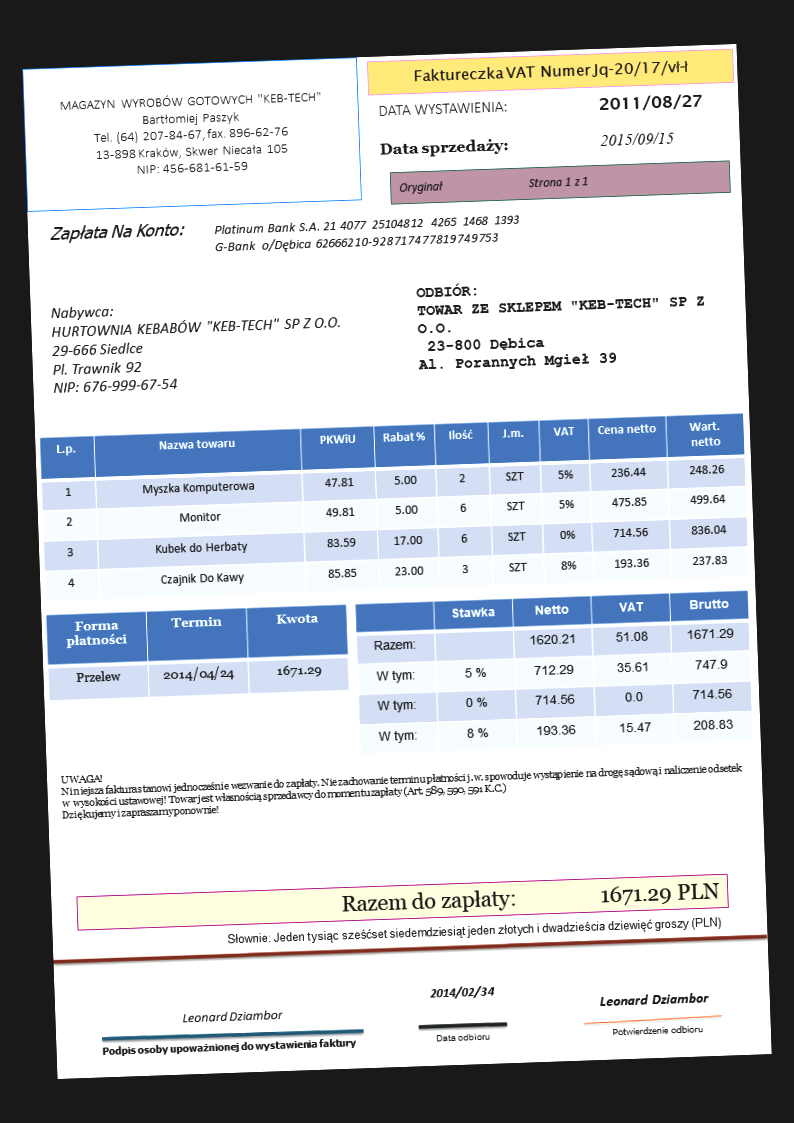Table: (39, 411, 750, 603), (353, 589, 755, 756), (45, 602, 350, 703)
TextBox: (58, 749, 746, 824), (412, 271, 712, 375), (47, 294, 343, 397), (57, 87, 327, 181), (225, 912, 722, 950), (339, 878, 722, 919), (211, 211, 524, 257), (410, 56, 689, 86), (100, 1033, 359, 1060), (397, 174, 588, 197), (48, 219, 186, 245), (377, 136, 512, 160), (376, 97, 508, 121), (597, 92, 704, 116), (596, 990, 709, 1009), (179, 1006, 286, 1026), (599, 129, 675, 150), (610, 1023, 704, 1038), (428, 983, 496, 1001), (432, 1029, 491, 1045)
